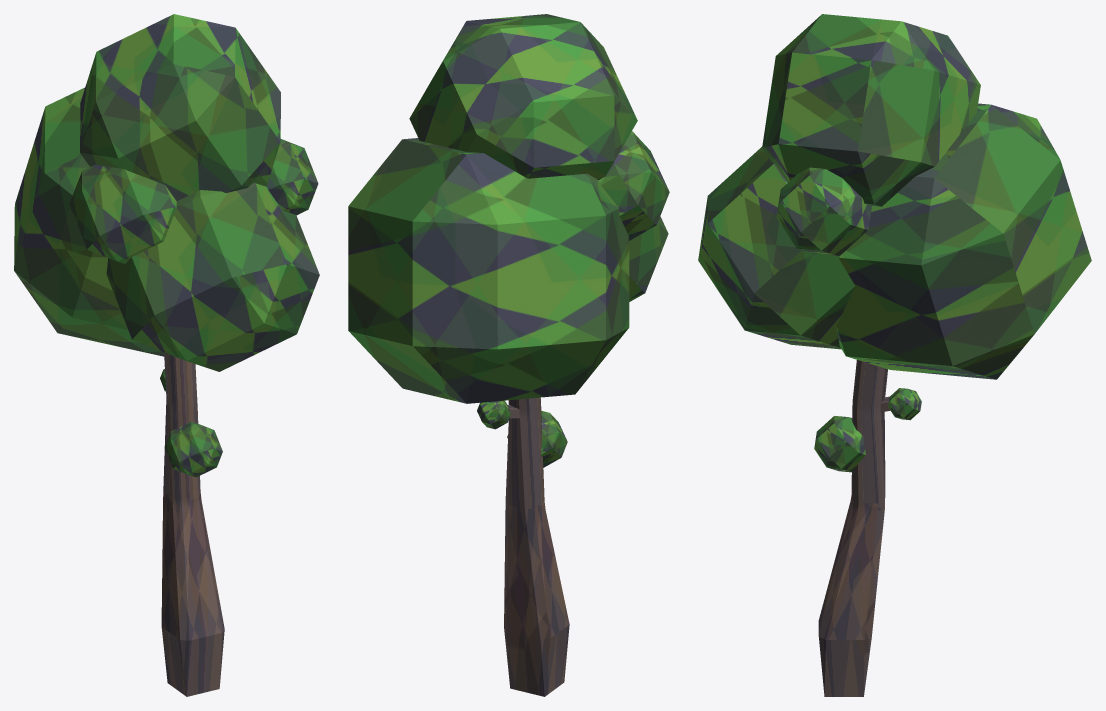
File: tree.fbx
The picture shows the model from 3 angles, left to right: view 1: azimuth 30°, elevation 25°; view 2: azimuth 150°, elevation 25°; view 3: azimuth 270°, elevation 25°; orthographic projection. The views are drawn at different scales.
Parts seen in each view (by area): view 1: pCube9, pCube7; view 2: pCube9, pCube7; view 3: pCube9, pCube7.
Boxes of the visible parts, x1=… form: pCube9: x1=14, y1=14, x2=319, y2=477; pCube7: x1=161, y1=352, x2=224, y2=696; pCube9: x1=348, y1=14, x2=669, y2=467; pCube7: x1=504, y1=397, x2=569, y2=696; pCube9: x1=698, y1=14, x2=1091, y2=472; pCube7: x1=818, y1=360, x2=890, y2=696.
Size of the model in its own units: 8.73 by 22.01 by 11.7.
Materials: 2 (2 with a texture image).
